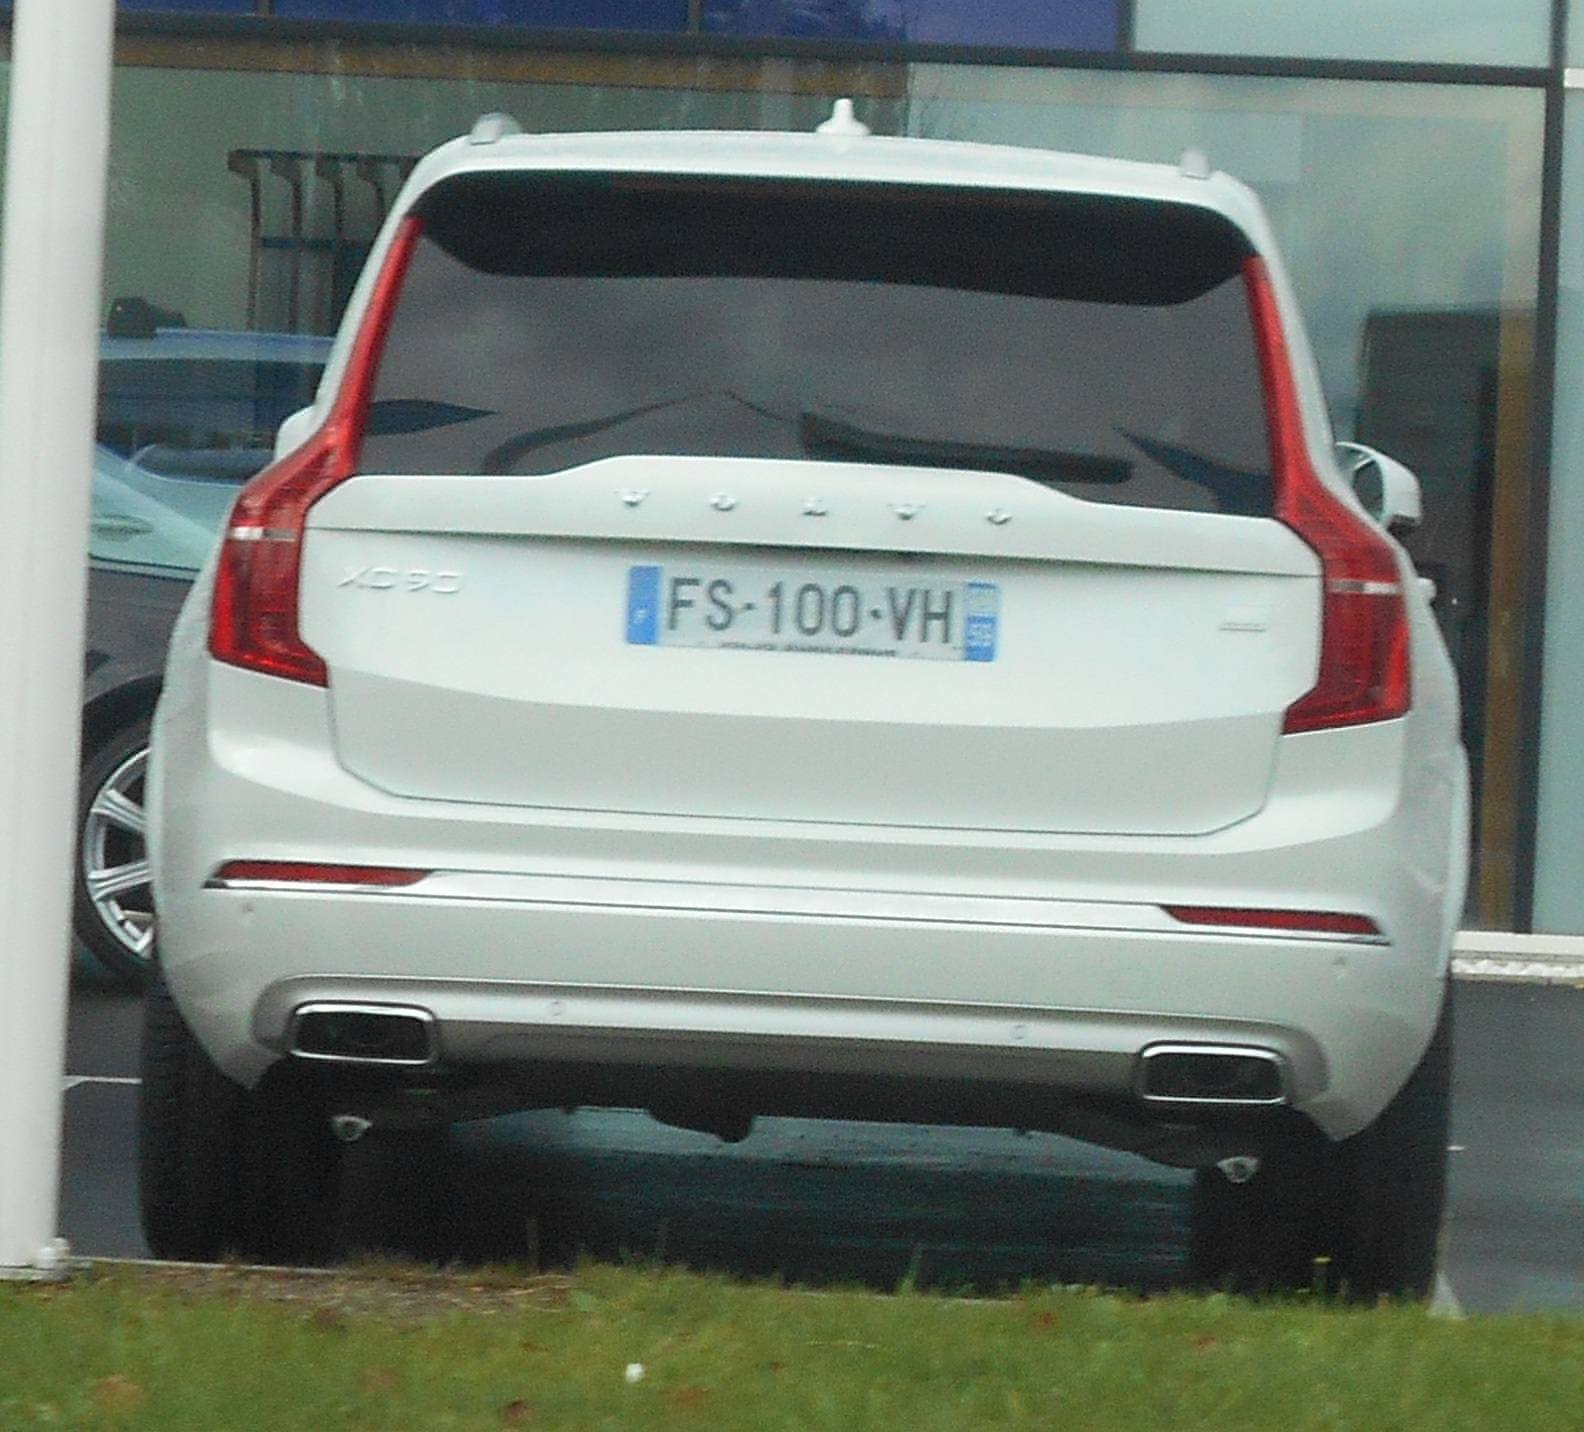licence plate: (617, 555, 1004, 677)
